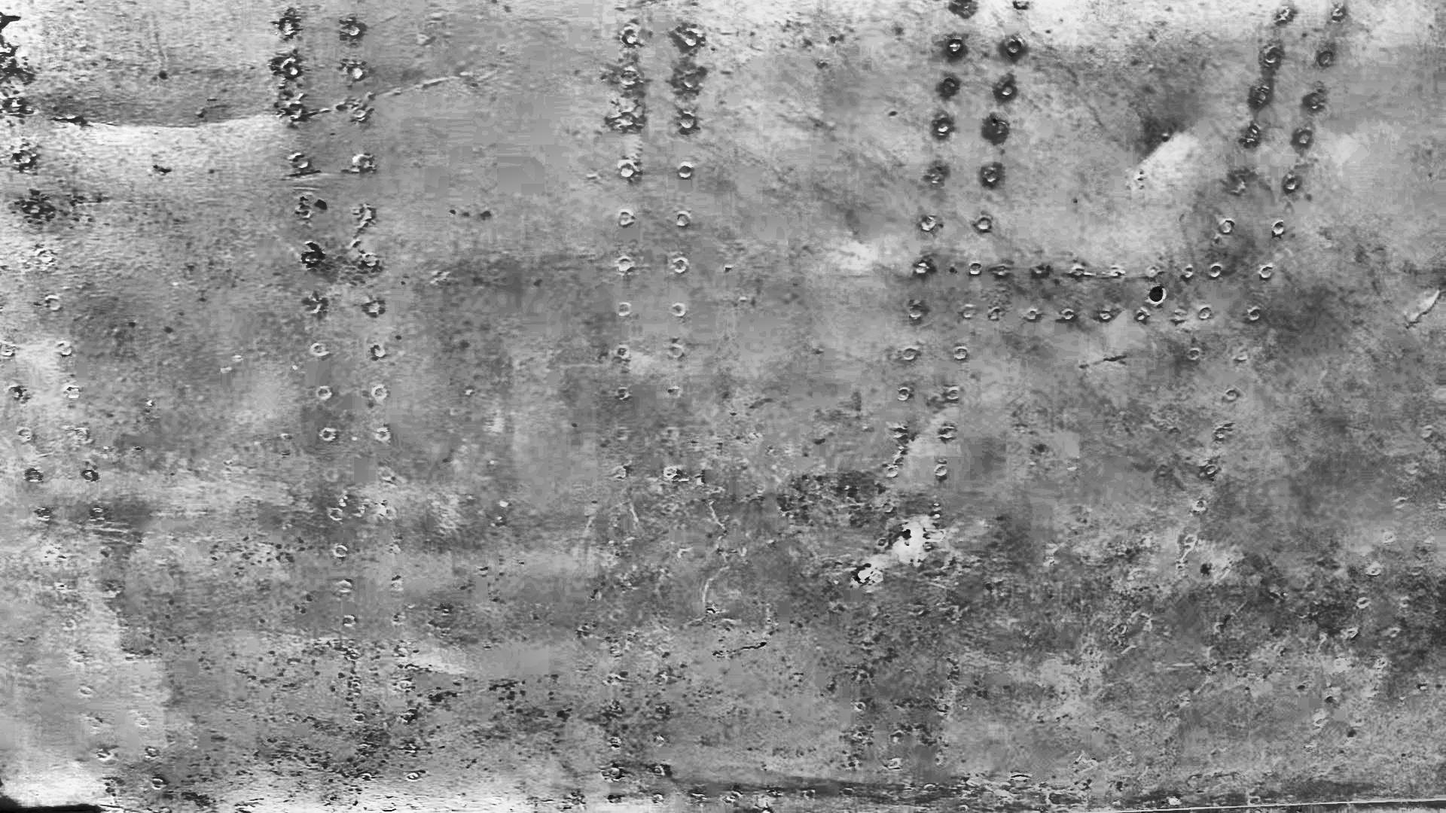dent: (60, 111, 269, 141), (1147, 122, 1182, 171)
paint-peel-off: (857, 561, 876, 582), (902, 525, 911, 550)
